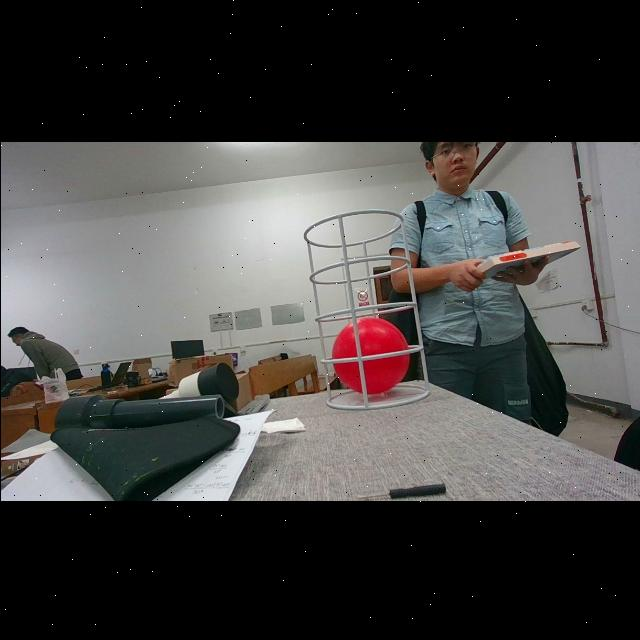R: (332, 315, 408, 393)
S: (304, 207, 430, 409)
